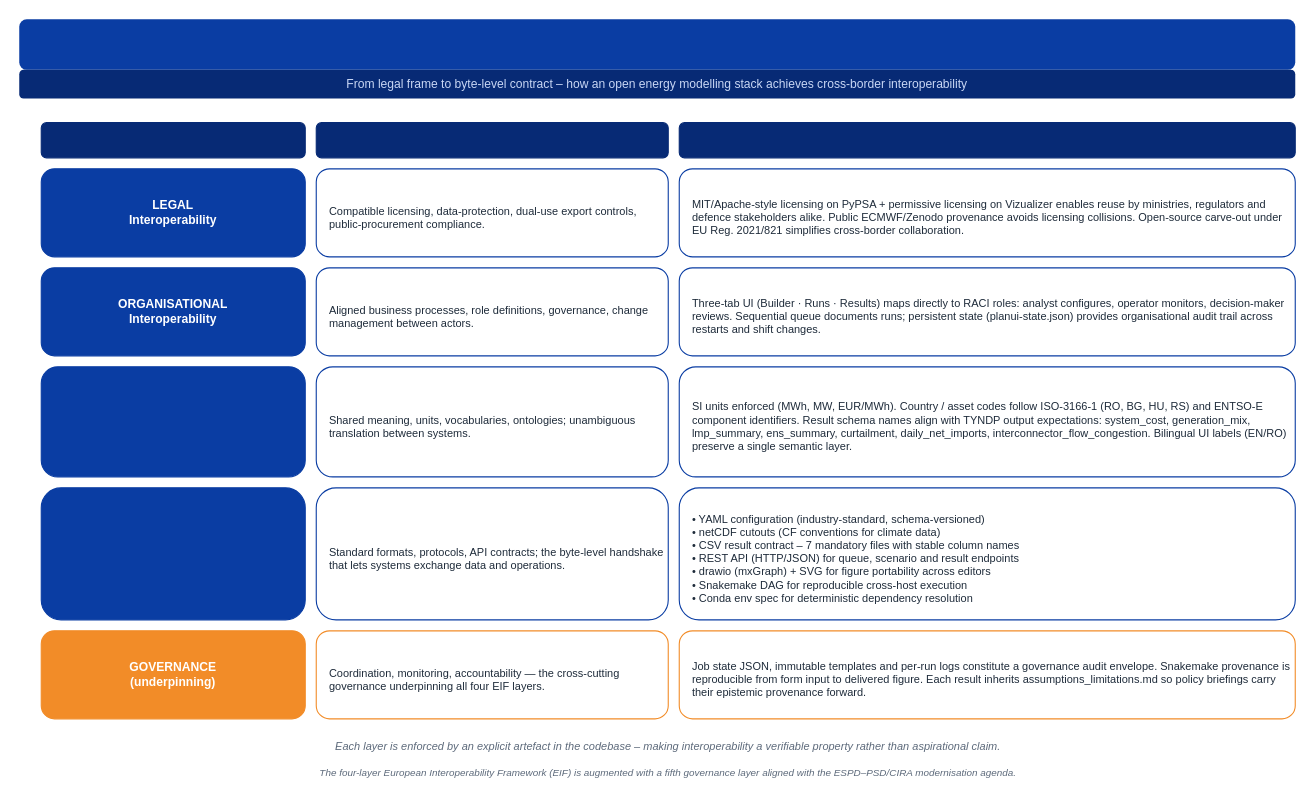
The diagram is 1315 pixels wide and 803 high, and some of its shapes have lost their labels. The centre of each missing label's shape, as x and y in pixels:
"EIF LAYER" belongs at point (172, 140).
"GENERIC CONCERN" belongs at point (491, 140).
"REALISATION IN PyPSA-EUR ROMANIA" belongs at point (986, 140).
"SEMANTIC Interoperability" belongs at point (172, 421).
"TECHNICAL Interoperability" belongs at point (172, 553).
"Technical Interoperability Layers (EIF) Mapped to PyPSA-Eur Romania" belongs at point (657, 44).
